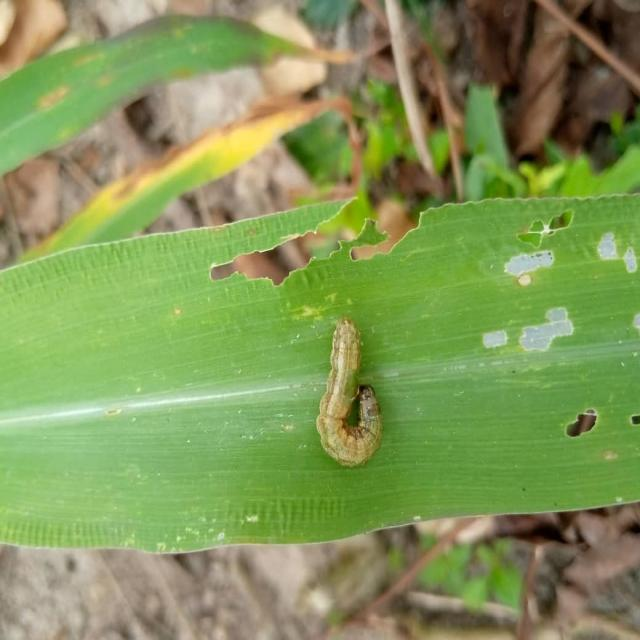yellow-stem-borer-larva: (296, 305, 402, 478)
